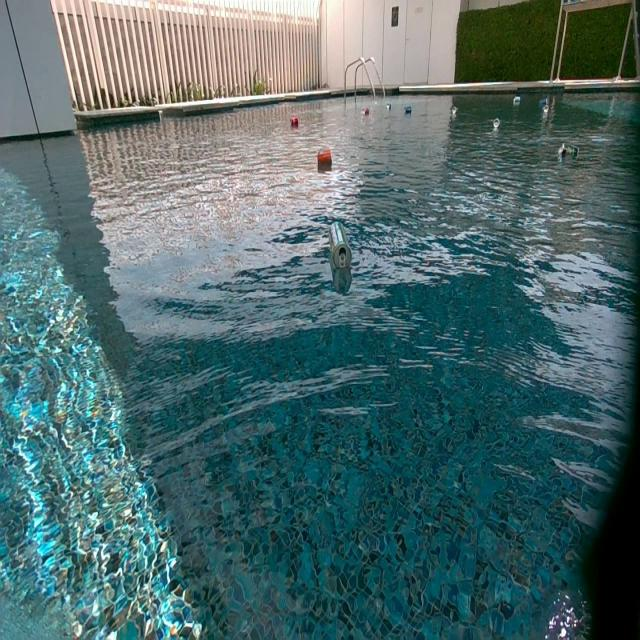Cans: (330, 220, 352, 270), (558, 142, 578, 161), (317, 148, 332, 163), (289, 114, 299, 127), (492, 117, 500, 129), (513, 97, 523, 106), (540, 97, 549, 107), (544, 104, 552, 115), (405, 106, 413, 116), (384, 103, 392, 112), (361, 107, 369, 116), (452, 106, 459, 116)
